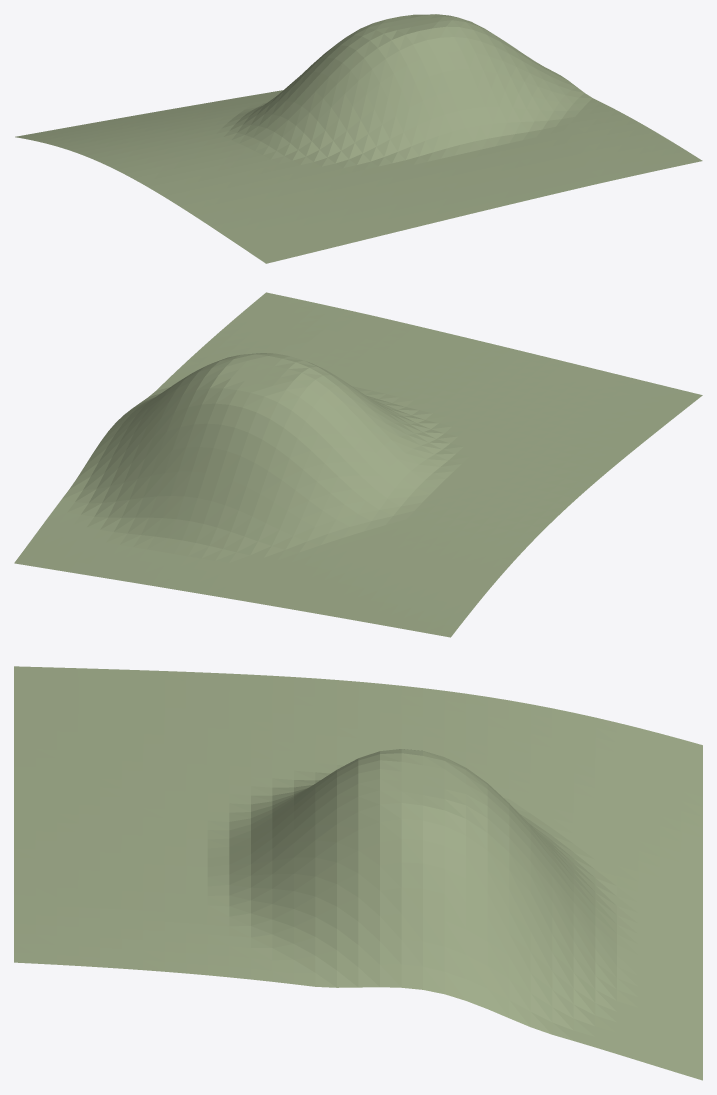
File: expanse-3-6.glb
The picture shows the model from 3 angles, top to bottom: view 1: azimuth 30°, elevation 25°; view 2: azimuth 150°, elevation 25°; view 3: azimuth 270°, elevation 25°; orthographic projection. The views are drawn at different scales.
Parts seen in each view (by area): view 1: expanse-3-6; view 2: expanse-3-6; view 3: expanse-3-6.
Boxes of the visible parts, x1,y1,x2,y2 form: expanse-3-6: (15,14,702,263); expanse-3-6: (14,292,702,637); expanse-3-6: (14,666,702,1080).
Bounding box in the file's own units: 256 × 86.74 × 256.
